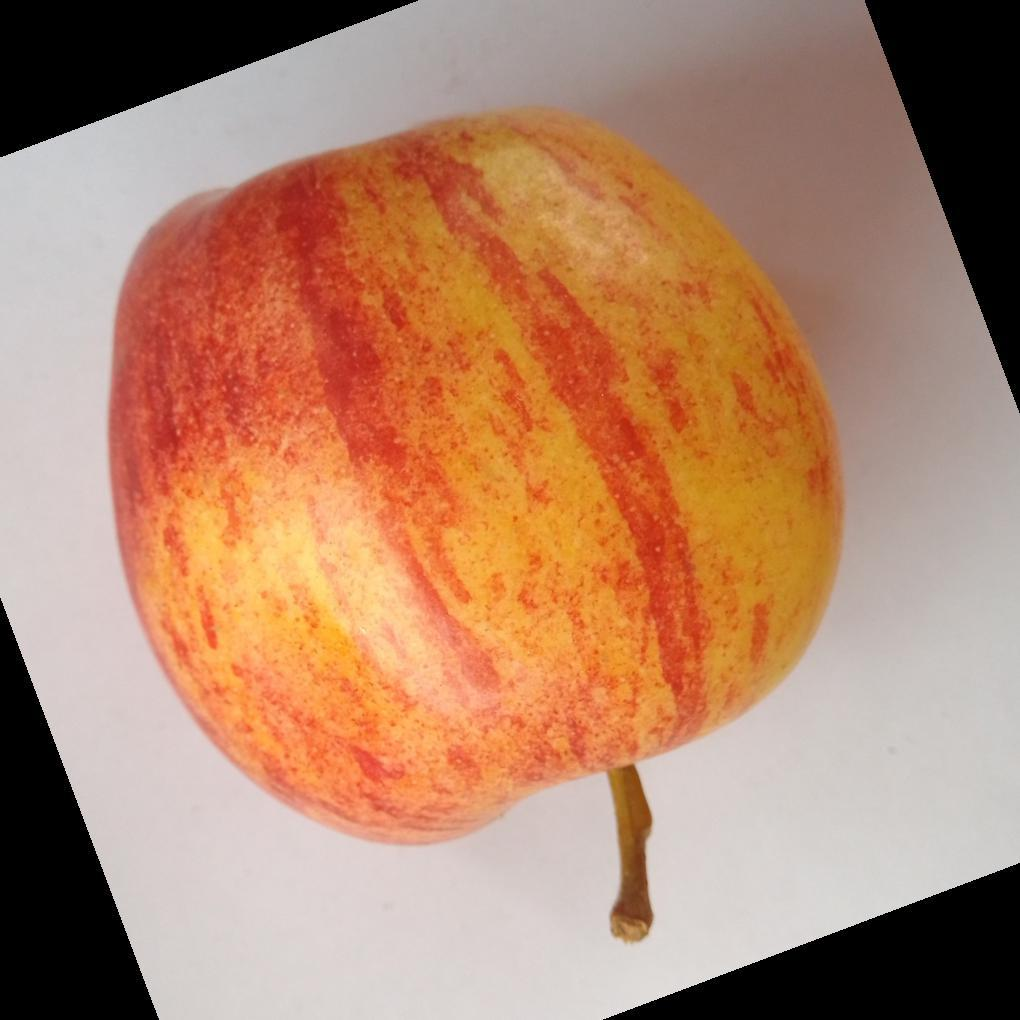FreshGuava: (105, 108, 847, 873)
